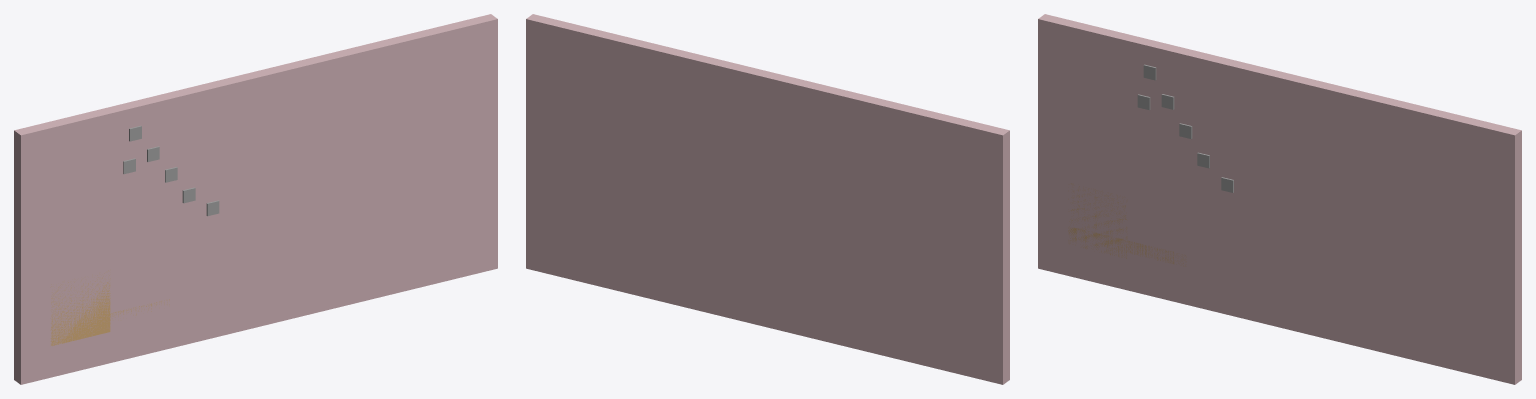
File: board.glb
The picture shows the model from 3 angles, left to right: view 1: azimuth 30°, elevation 25°; view 2: azimuth 150°, elevation 25°; view 3: azimuth 330°, elevation 25°; orthographic projection.
Visible parts, largest first — view 1: Substrate_Layer_0, Substrate_Layer_1; view 2: Substrate_Layer_0; view 3: Substrate_Layer_0, Substrate_Layer_2, Substrate_Layer_1.
Boxes of the visible parts, box(x1,y1,x2,y2) form: Substrate_Layer_0: box(14, 14, 497, 384); Substrate_Layer_1: box(50, 270, 110, 345); Substrate_Layer_0: box(526, 14, 1009, 384); Substrate_Layer_0: box(1038, 14, 1521, 384); Substrate_Layer_2: box(1068, 226, 1186, 266); Substrate_Layer_1: box(1068, 183, 1127, 258).
Size of the model in its own units: 0.08 by 0.04 by 0.0025.
